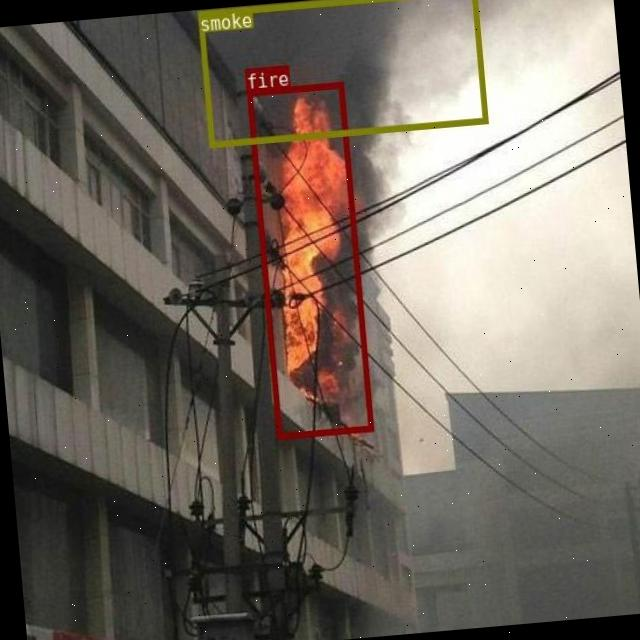fire: (245, 81, 372, 437)
smoke: (196, 0, 486, 146)
